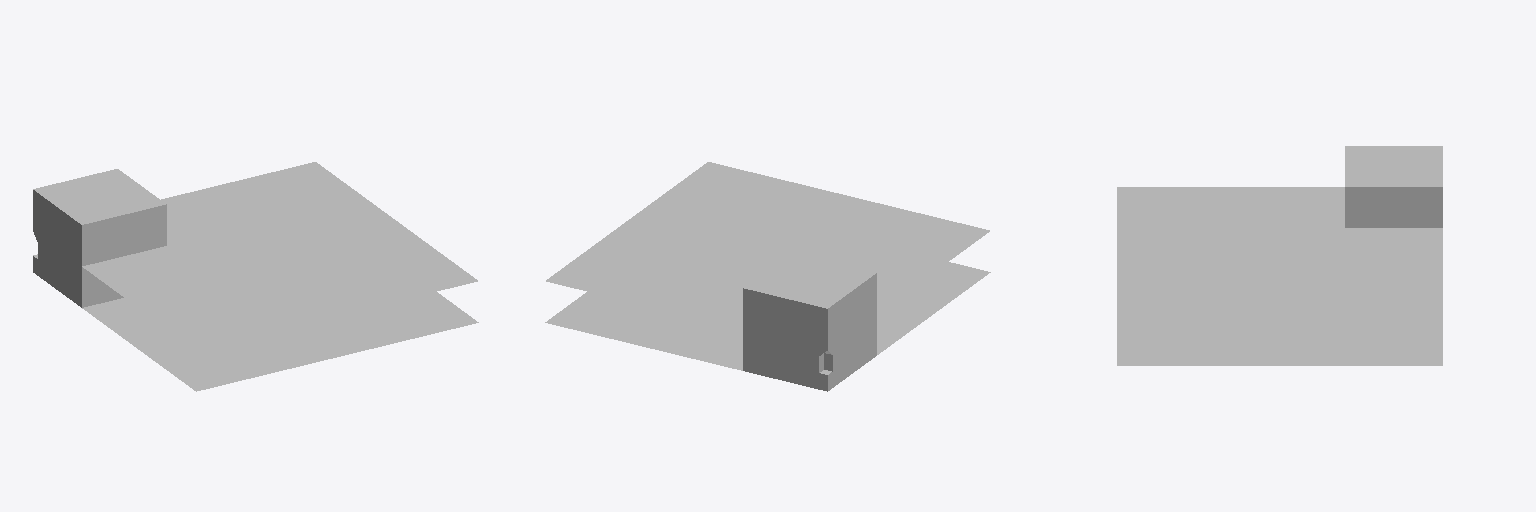
Rendered from fountainCornerInnerSquare.obj.
The picture shows the model from 3 angles: view 1: azimuth 30°, elevation 25°; view 2: azimuth 150°, elevation 25°; view 3: azimuth 270°, elevation 25°; orthographic projection.
Parts seen in each view (by area): view 1: fountainCornerInnerSquare; view 2: fountainCornerInnerSquare; view 3: fountainCornerInnerSquare.
Boxes of the visible parts, x1,y1,x2,y2 form: fountainCornerInnerSquare: [33, 162, 478, 391]; fountainCornerInnerSquare: [545, 162, 990, 391]; fountainCornerInnerSquare: [1117, 146, 1442, 365].
Bounding box in the file's own units: 1 × 0.28 × 1.